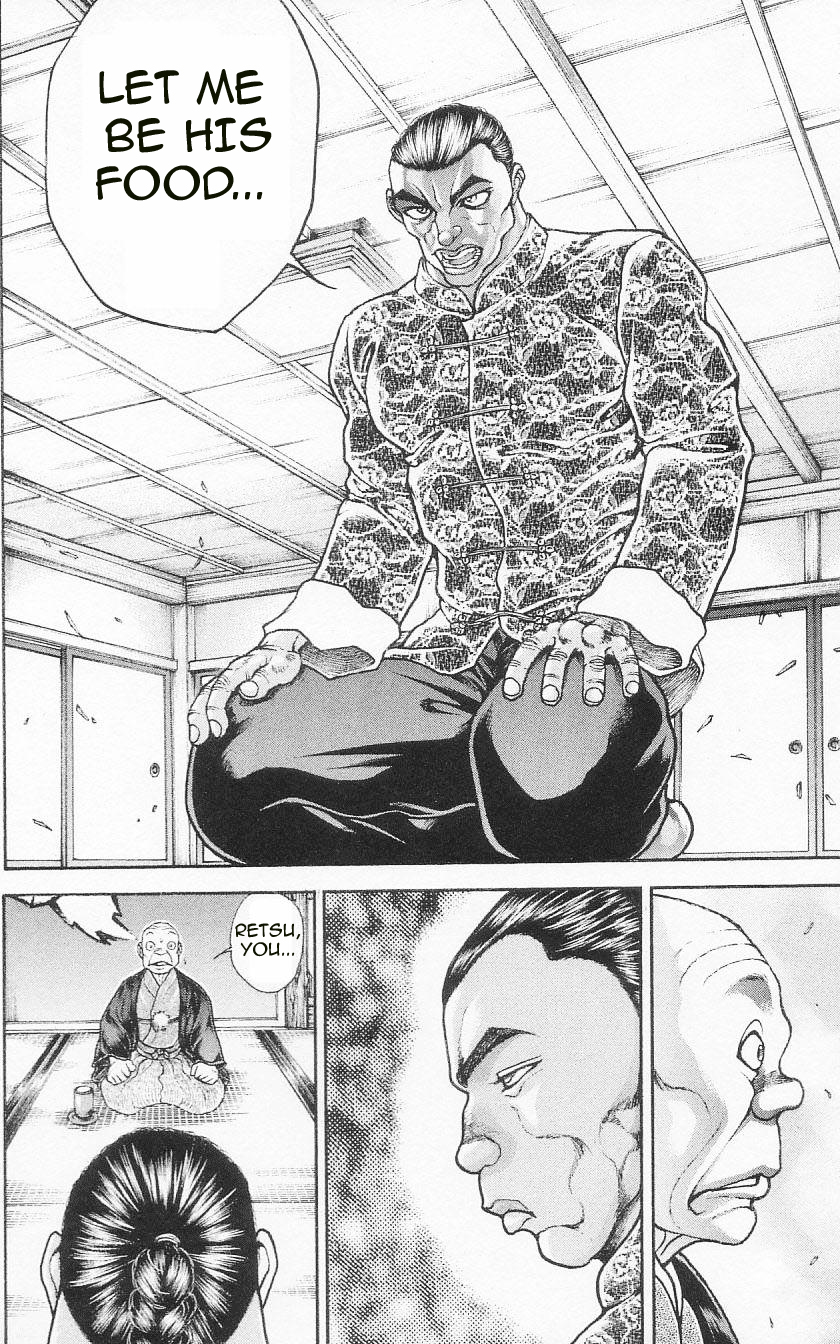Baloon: (47, 1, 352, 329), (231, 896, 304, 994)
Vignetta: (6, 2, 837, 876), (321, 888, 647, 1344), (1, 890, 327, 1343), (645, 882, 835, 1344)
